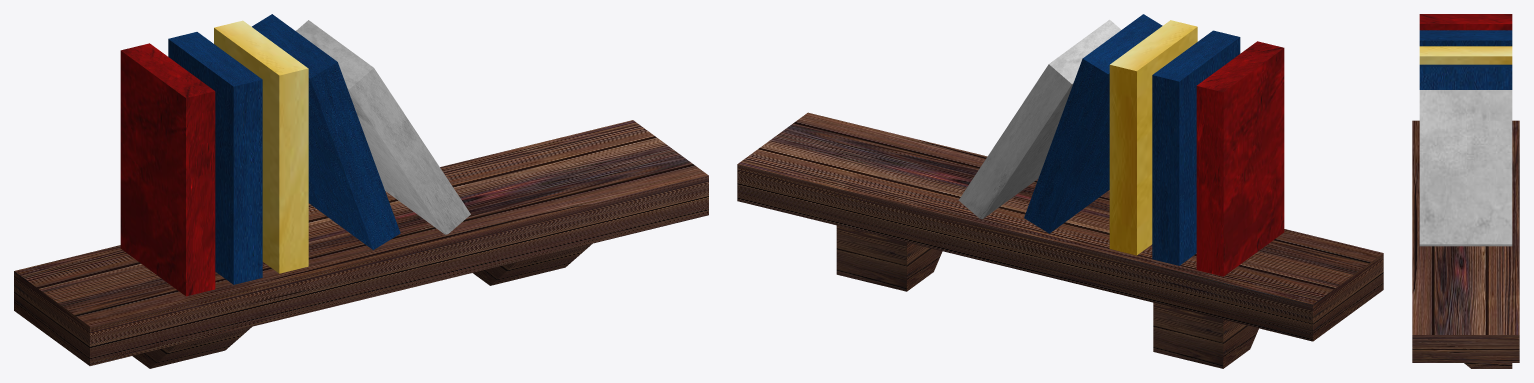
The model's file is repisas.obj.
The picture shows the model from 3 angles, left to right: view 1: azimuth 30°, elevation 25°; view 2: azimuth 150°, elevation 25°; view 3: azimuth 270°, elevation 25°; orthographic projection. The views are drawn at different scales.
Visible parts, largest first — view 1: Cube, Cube.005, Cube.004, Cube.006, Cube.003, Cube.007, Cube.002, Cube.001; view 2: Cube, Cube.005, Cube.004, Cube.003, Cube.006, Cube.007, Cube.001, Cube.002; view 3: Cube.007, Cube, Cube.006, Cube.003, Cube.004, Cube.005, Cube.001.
Part boxes in pixels (bbox=[...]): Cube: bbox=[14, 120, 708, 365]; Cube.005: bbox=[120, 43, 215, 296]; Cube.004: bbox=[168, 32, 262, 284]; Cube.006: bbox=[252, 14, 400, 250]; Cube.003: bbox=[214, 20, 308, 273]; Cube.007: bbox=[296, 20, 470, 234]; Cube.002: bbox=[132, 327, 251, 368]; Cube.001: bbox=[473, 243, 592, 285]; Cube: bbox=[737, 112, 1383, 341]; Cube.005: bbox=[1196, 41, 1284, 276]; Cube.004: bbox=[1152, 30, 1240, 265]; Cube.003: bbox=[1109, 20, 1197, 255]; Cube.006: bbox=[1024, 14, 1162, 233]; Cube.007: bbox=[958, 19, 1121, 219]; Cube.001: bbox=[836, 225, 942, 291]; Cube.002: bbox=[1153, 302, 1258, 368]; Cube.007: bbox=[1419, 90, 1512, 246]; Cube: bbox=[1412, 120, 1519, 362]; Cube.006: bbox=[1419, 64, 1512, 89]; Cube.003: bbox=[1419, 46, 1512, 64]; Cube.004: bbox=[1419, 30, 1512, 46]; Cube.005: bbox=[1419, 14, 1512, 30]; Cube.001: bbox=[1464, 363, 1512, 368].
Size of the model in its own units: 10.91 by 5.01 by 2.32.
8 materials, 8 textured.
